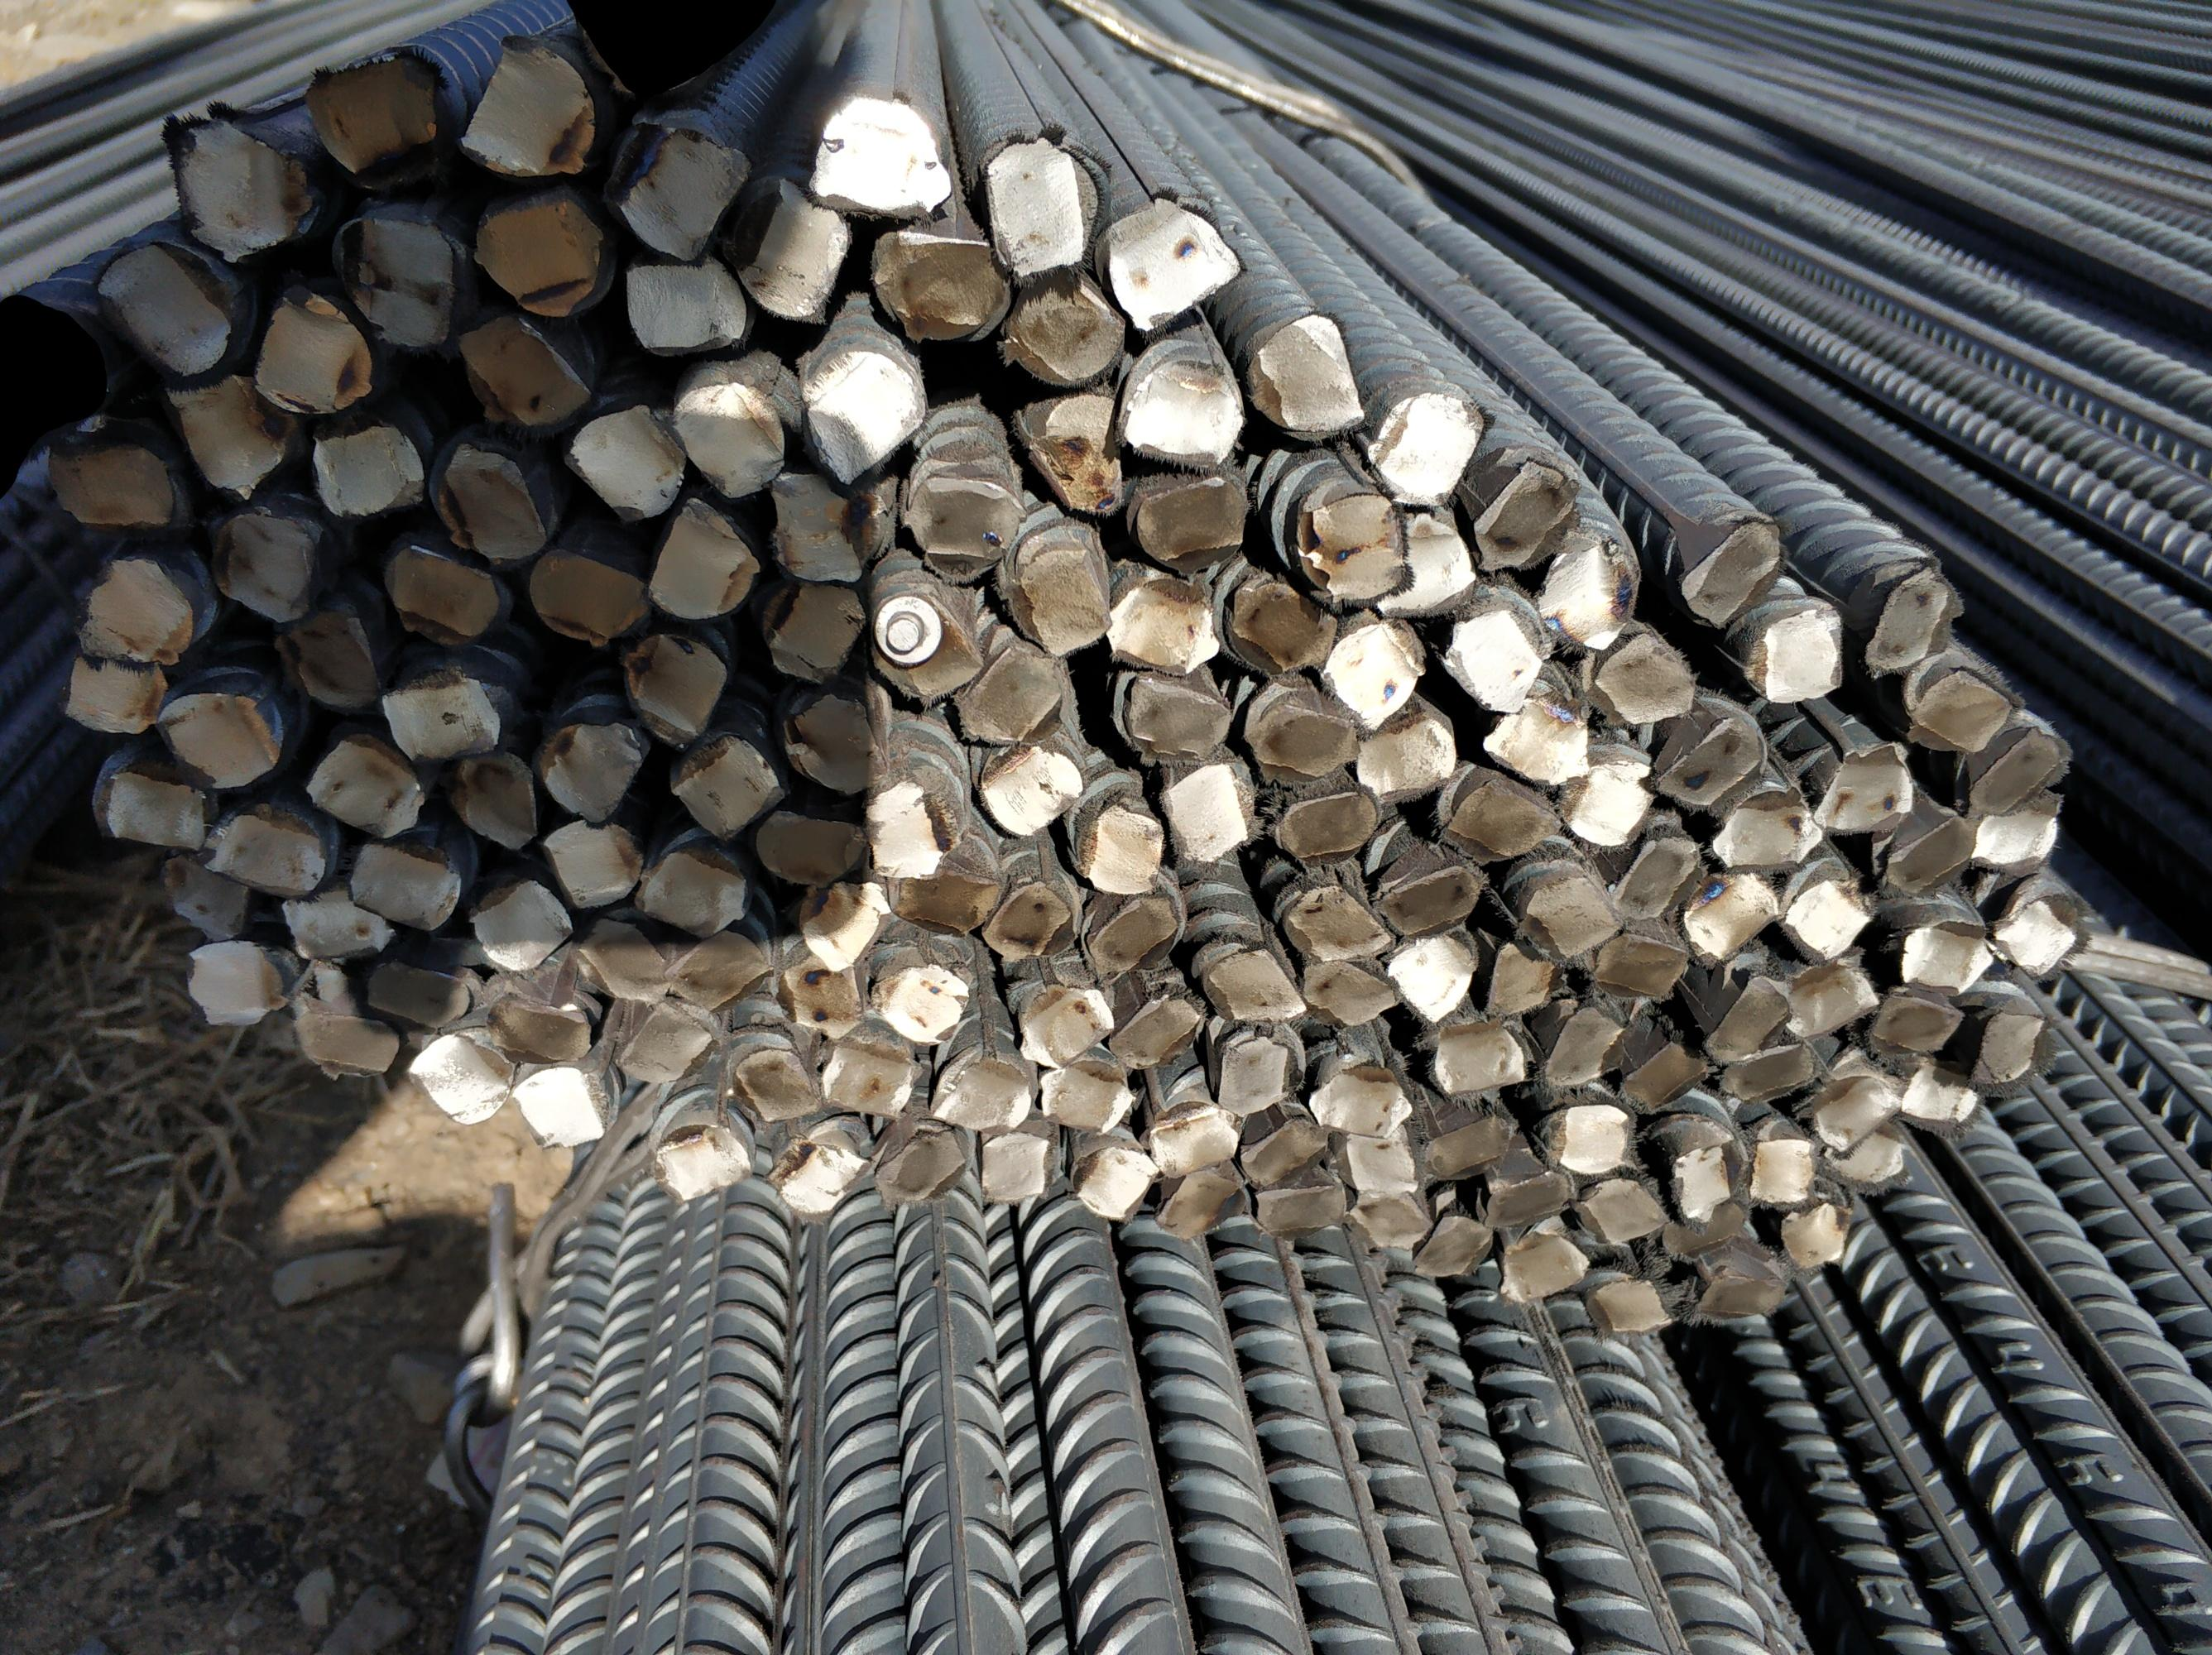bar: (160, 101, 315, 263), (1095, 183, 1246, 332), (462, 24, 608, 176), (304, 52, 455, 195), (805, 87, 957, 221), (327, 209, 469, 351), (975, 125, 1107, 276), (737, 169, 857, 330), (865, 207, 1004, 342), (617, 120, 749, 263), (466, 193, 610, 323), (447, 304, 593, 431), (96, 242, 233, 372), (638, 489, 766, 626), (801, 344, 928, 483), (1114, 349, 1249, 471), (610, 252, 759, 360), (200, 502, 330, 626), (994, 263, 1126, 384), (1366, 379, 1487, 511), (169, 365, 287, 499), (1244, 309, 1368, 436), (900, 464, 1029, 586), (433, 436, 556, 562), (254, 287, 372, 417), (70, 548, 200, 666), (1289, 482, 1414, 603), (669, 376, 789, 501), (151, 681, 287, 791), (566, 398, 683, 525), (1018, 382, 1128, 516), (43, 428, 179, 535), (1672, 509, 1788, 631), (523, 542, 655, 648), (1223, 563, 1341, 680), (381, 534, 504, 645), (620, 622, 732, 746), (532, 706, 648, 822), (867, 586, 982, 702), (1152, 753, 1268, 867), (269, 608, 389, 720), (1434, 760, 1562, 862), (1373, 501, 1482, 621), (1472, 452, 1580, 574), (1536, 527, 1640, 652), (304, 417, 431, 520), (1133, 464, 1249, 575), (1317, 617, 1428, 734), (954, 638, 1070, 748), (763, 570, 871, 688), (372, 664, 502, 761), (765, 462, 867, 586), (669, 734, 785, 841), (1013, 535, 1114, 659), (306, 739, 429, 840), (1105, 666, 1237, 760), (202, 800, 328, 897), (1861, 562, 1969, 675), (632, 838, 749, 942), (1244, 681, 1361, 784), (346, 833, 464, 934), (1107, 572, 1218, 676), (1439, 607, 1543, 716), (1592, 624, 1703, 727), (1652, 709, 1764, 812), (1805, 737, 1920, 836), (784, 690, 890, 796), (1479, 692, 1593, 789), (278, 869, 396, 963), (466, 873, 575, 974), (87, 760, 209, 850), (1081, 880, 1182, 987), (59, 641, 170, 739), (1508, 859, 1619, 956), (1904, 661, 2021, 753), (448, 746, 551, 850), (577, 909, 679, 1012), (408, 1027, 509, 1130), (1965, 716, 2068, 817), (1557, 746, 1659, 847), (537, 812, 641, 911), (1750, 598, 1849, 702), (1076, 793, 1173, 899), (867, 775, 963, 883), (1272, 777, 1381, 869), (977, 742, 1081, 838), (1348, 708, 1453, 803), (662, 923, 772, 1014), (1696, 970, 1797, 1067), (162, 847, 264, 942), (921, 1041, 1027, 1133), (1286, 874, 1395, 963), (888, 847, 999, 934), (1216, 1024, 1315, 1121), (186, 932, 285, 1029), (1894, 901, 1991, 1000), (867, 954, 968, 1050), (1017, 977, 1119, 1069), (1781, 949, 1884, 1041), (294, 994, 401, 1081), (473, 876, 568, 974), (794, 876, 888, 975), (1606, 827, 1705, 921), (1779, 871, 1880, 963), (1990, 878, 2082, 979), (1376, 847, 1480, 935), (1684, 867, 1779, 963), (1387, 930, 1482, 1026), (1286, 947, 1394, 1031), (1885, 801, 1981, 895), (1710, 793, 1825, 871), (811, 1033, 912, 1121), (874, 1111, 963, 1212), (754, 803, 860, 887), (619, 994, 716, 1085), (509, 1060, 606, 1151), (765, 1128, 864, 1217), (1204, 942, 1307, 1027), (650, 1121, 752, 1206), (985, 874, 1083, 963), (1308, 1057, 1411, 1140), (778, 944, 865, 1041), (1965, 996, 2050, 1095), (1430, 1017, 1533, 1099), (487, 986, 593, 1064), (363, 956, 474, 1029), (1661, 1127, 1745, 1224), (1969, 798, 2070, 878), (1109, 987, 1201, 1074), (1899, 1057, 1990, 1144), (1538, 1001, 1626, 1088), (1070, 1137, 1156, 1227), (973, 1120, 1058, 1208), (730, 1040, 818, 1125), (1809, 1071, 1897, 1154), (1870, 987, 1962, 1067), (1036, 1060, 1133, 1133), (1479, 939, 1564, 1020), (1720, 1031, 1819, 1100), (1156, 1168, 1249, 1241), (1237, 1107, 1326, 1184), (1597, 930, 1689, 1003), (1498, 1229, 1590, 1300), (1340, 1121, 1423, 1198), (1621, 1036, 1706, 1111), (1818, 1123, 1911, 1191), (1149, 1104, 1239, 1173), (1743, 1130, 1819, 1212), (1411, 1208, 1494, 1281), (1423, 1111, 1508, 1182), (1347, 1184, 1432, 1255), (1578, 1172, 1665, 1241), (1552, 1102, 1633, 1175), (1251, 1175, 1343, 1240), (1479, 1168, 1574, 1229), (1692, 1264, 1790, 1321), (1781, 1200, 1852, 1274), (1661, 1200, 1748, 1255), (1588, 1276, 1672, 1332)
